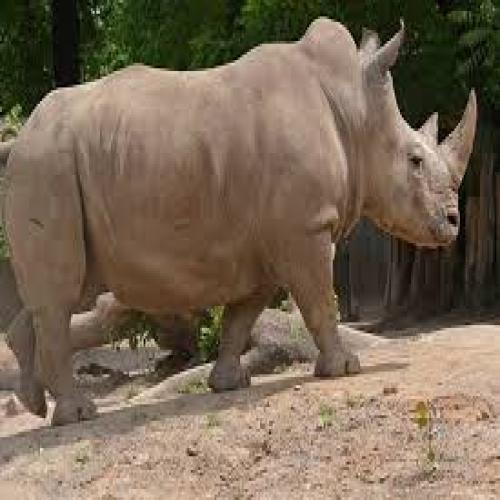rhino-endangered: (5, 27, 478, 423)
